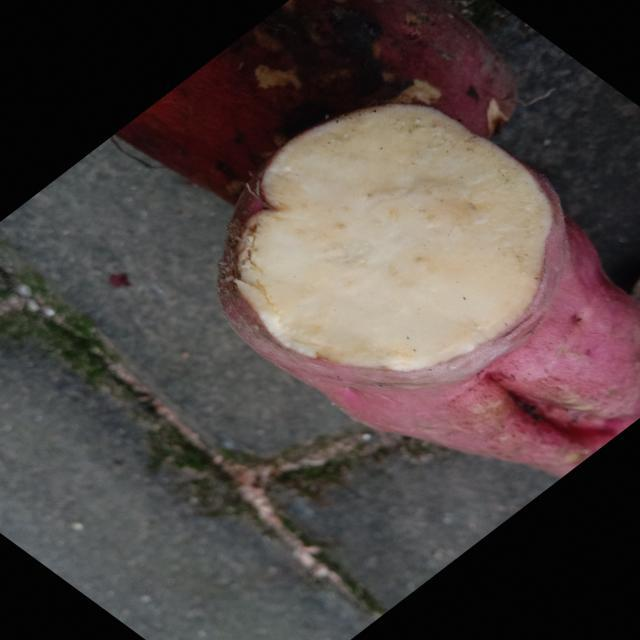Healthy Sweet Potato: (237, 105, 552, 370)
